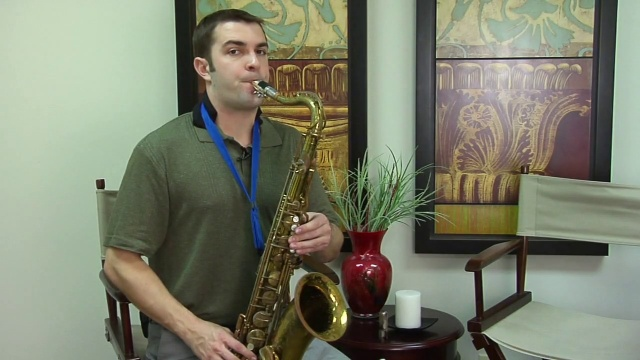person: (102, 14, 327, 360)
